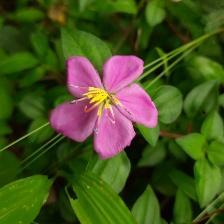malabar melastome: (47, 54, 162, 158)
